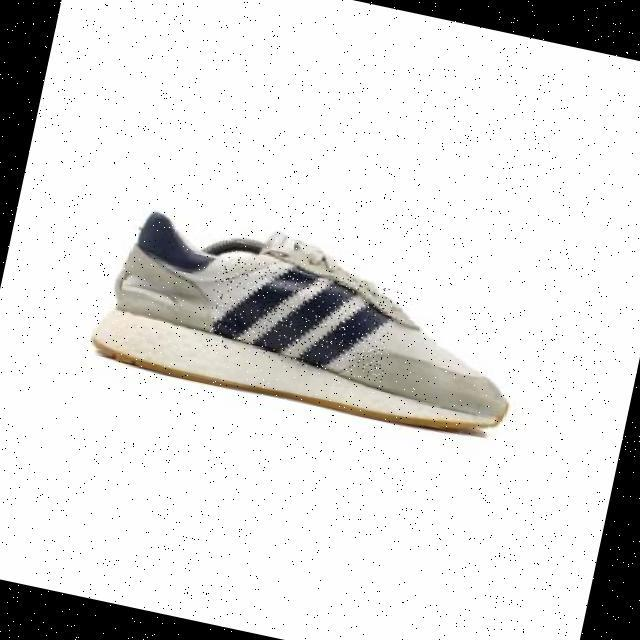Adidas: (202, 251, 401, 382)
